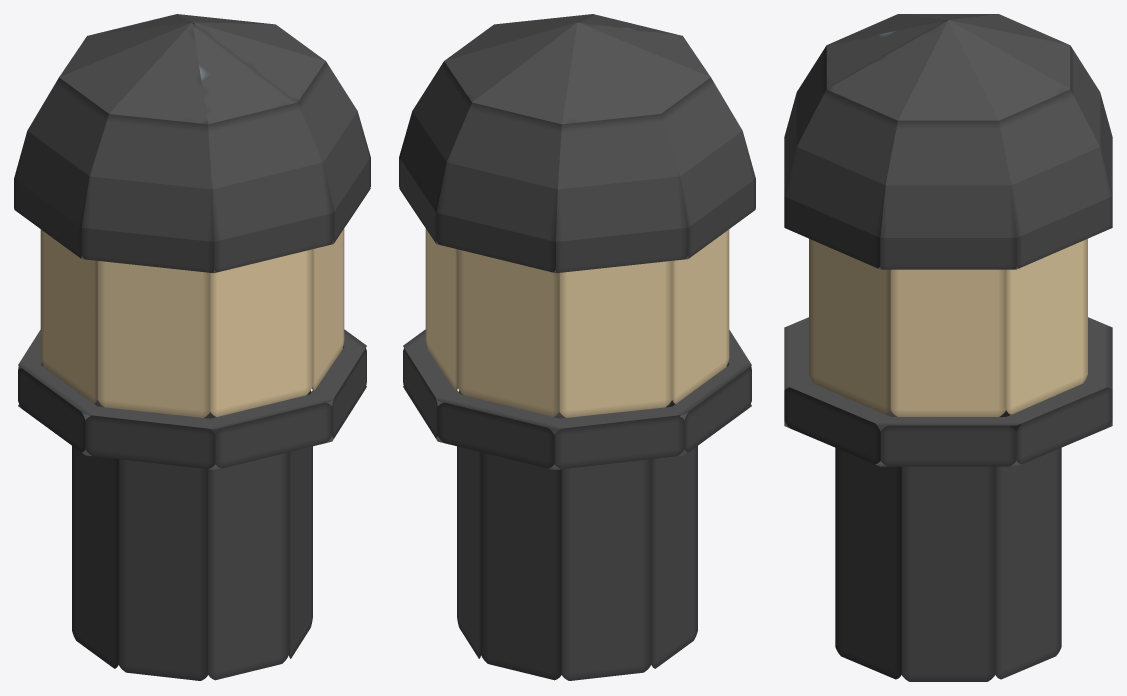
Rendered from Floor Light.fbx.
3 renders of one model, left to right at view 1: azimuth 30°, elevation 25°; view 2: azimuth 150°, elevation 25°; view 3: azimuth 270°, elevation 25°, orthographic.
Visible parts, largest first — view 1: Base, Light; view 2: Base, Light; view 3: Base, Light.
Part boxes in pixels (x1=…): Base: x1=14, y1=14, x2=370, y2=680; Light: x1=40, y1=228, x2=344, y2=417; Base: x1=399, y1=14, x2=755, y2=680; Light: x1=425, y1=228, x2=729, y2=417; Base: x1=784, y1=14, x2=1112, y2=681; Light: x1=809, y1=238, x2=1087, y2=416.
Bounding box in the file's own units: 121 × 243 × 118.
Materials: 1 (1 with a texture image).
